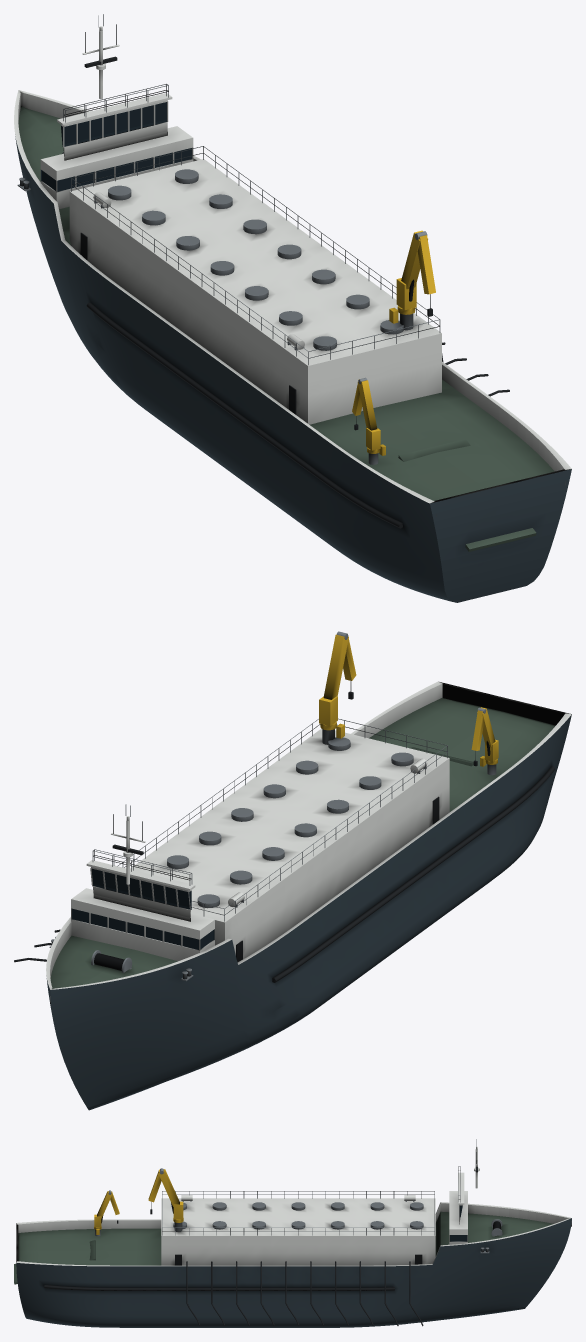
Rendered from feed_barge_large_LOD0.glb.
3 renders of one model, top to bottom at view 1: azimuth 30°, elevation 25°; view 2: azimuth 150°, elevation 25°; view 3: azimuth 270°, elevation 25°, orthographic. The views are drawn at different scales.
Visible parts, largest first — view 1: Superstructure, Hull, Deck, Machinery, Windows, Rubber, Crane; view 2: Hull, Superstructure, Deck, Machinery, Rubber, Windows, Crane; view 3: Hull, Superstructure, Deck, Machinery, Rubber, Crane.
Part boxes in pixels (left/top/right/bottom): Superstructure: left=14, top=26, right=571, bottom=516; Hull: left=15, top=136, right=571, bottom=602; Deck: left=18, top=106, right=554, bottom=551; Machinery: left=17, top=14, right=440, bottom=464; Windows: left=41, top=102, right=192, bottom=191; Rubber: left=80, top=24, right=509, bottom=528; Crane: left=352, top=230, right=435, bottom=455; Hull: left=46, top=714, right=571, bottom=1110; Superstructure: left=46, top=681, right=571, bottom=1002; Deck: left=50, top=698, right=555, bottom=1003; Machinery: left=49, top=631, right=496, bottom=981; Rubber: left=14, top=691, right=554, bottom=982; Windows: left=72, top=868, right=214, bottom=949; Crane: left=319, top=634, right=498, bottom=766; Hull: left=16, top=1218, right=571, bottom=1327; Superstructure: left=16, top=1146, right=571, bottom=1269; Deck: left=14, top=1211, right=571, bottom=1284; Machinery: left=95, top=1139, right=502, bottom=1253; Rubber: left=44, top=1152, right=500, bottom=1326; Crane: left=94, top=1169, right=183, bottom=1234.
Size of the model in its own units: 19.85 by 21.76 by 65.09.
